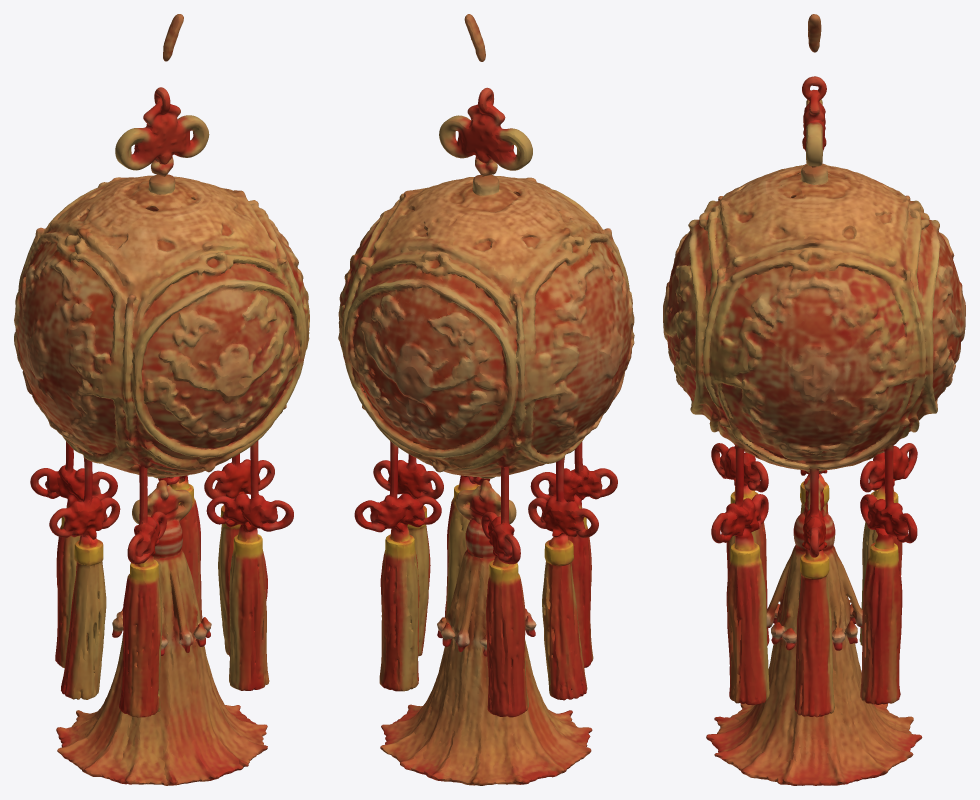
The model's file is story-close.glb.
3 views of the same model, side by side, from view 1: azimuth 30°, elevation 25°; view 2: azimuth 150°, elevation 25°; view 3: azimuth 270°, elevation 25° (orthographic).
Visible parts, largest first — view 1: world; view 2: world; view 3: world.
Part boxes in pixels (x1=…): world: x1=14, y1=14, x2=309, y2=785; world: x1=338, y1=14, x2=634, y2=785; world: x1=663, y1=14, x2=965, y2=785.
Bounding box in the file's own units: 0.18 × 0.4826 × 0.1796.
Materials: 1 (1 with a texture image).
